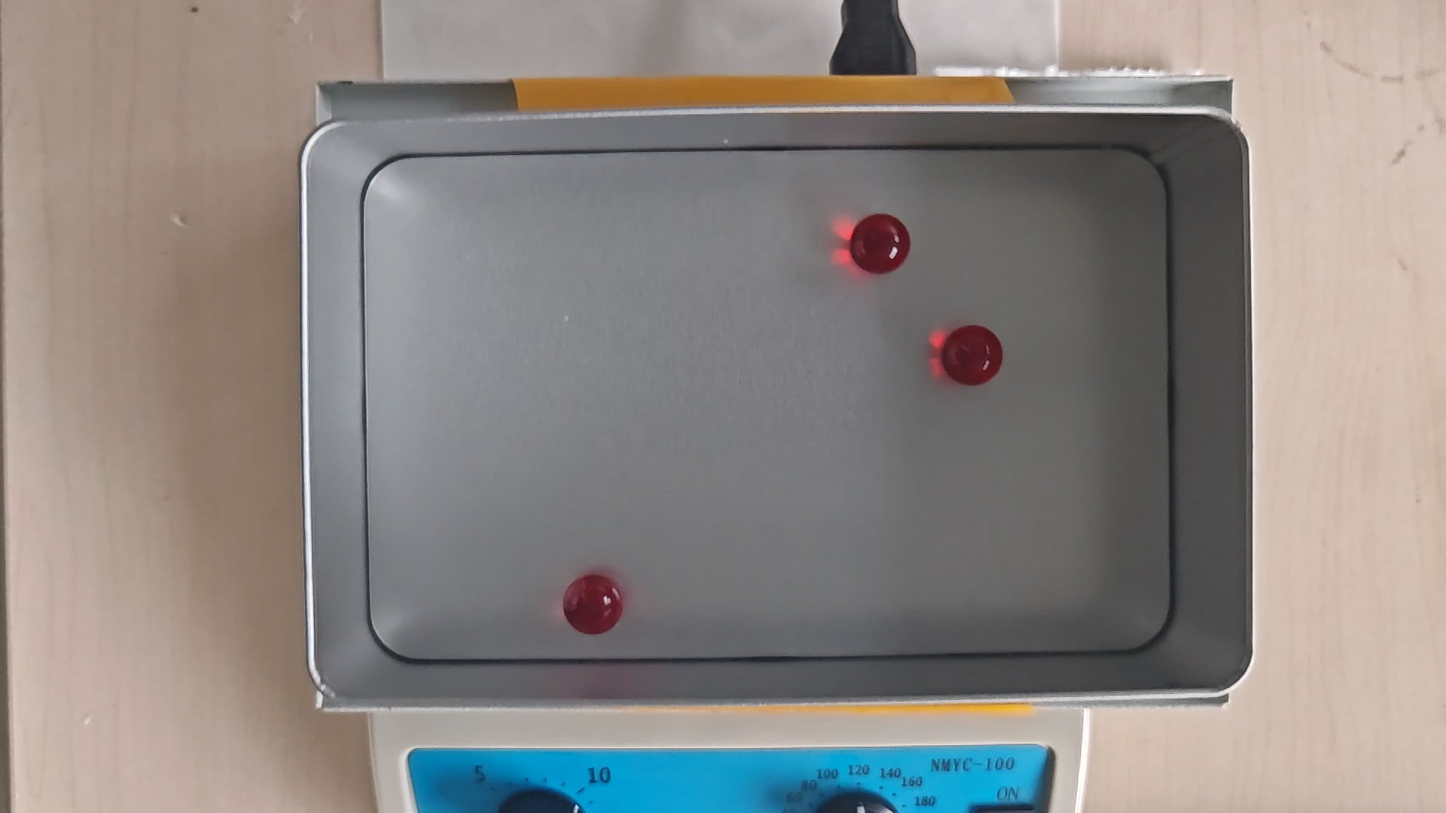ball: (941, 324, 1003, 388), (564, 575, 625, 635), (853, 214, 910, 273)
container: (364, 148, 1170, 660)
